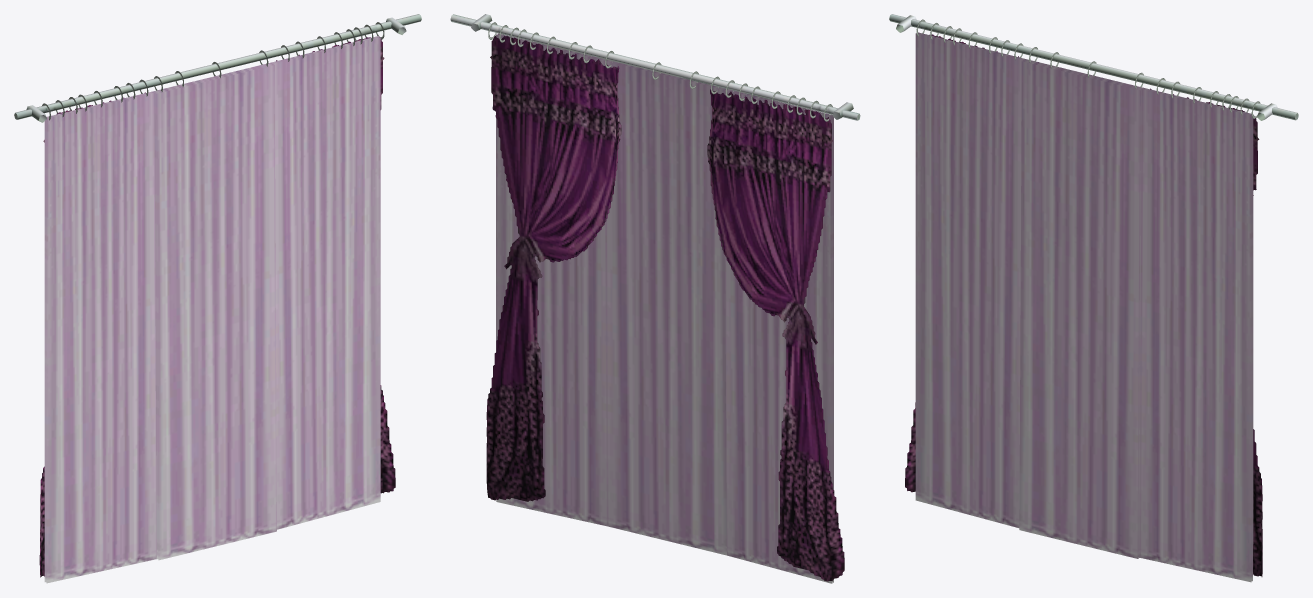
The model's file is furni_0200150_02.FBX.
3 views of the same model, side by side, from view 1: azimuth 30°, elevation 25°; view 2: azimuth 150°, elevation 25°; view 3: azimuth 330°, elevation 25° (orthographic).
Visible parts, largest first — view 1: furni_0200150_02; view 2: furni_0200150_02; view 3: furni_0200150_02.
Boxes of the visible parts, <box> form: furni_0200150_02: <box>14,14,421,583</box>; furni_0200150_02: <box>450,14,860,583</box>; furni_0200150_02: <box>889,14,1298,582</box>.
Bounding box in the file's own units: 193 × 218 × 11.14.
2 materials, 2 textured.
